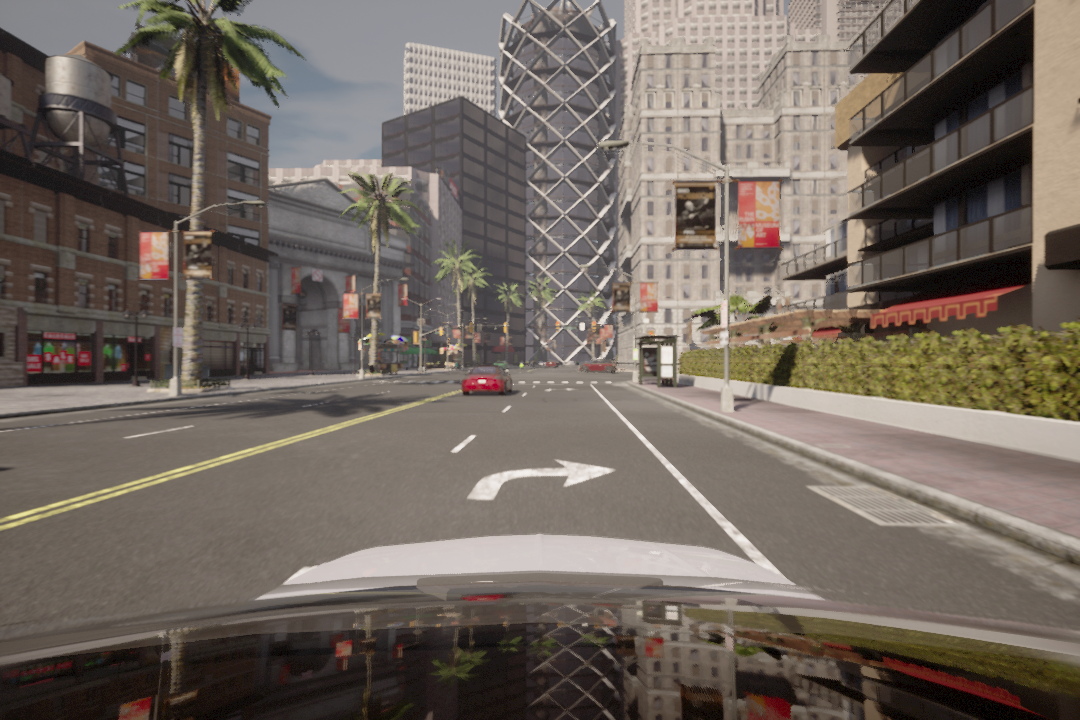RoadSign_right: (461, 450, 624, 505)
